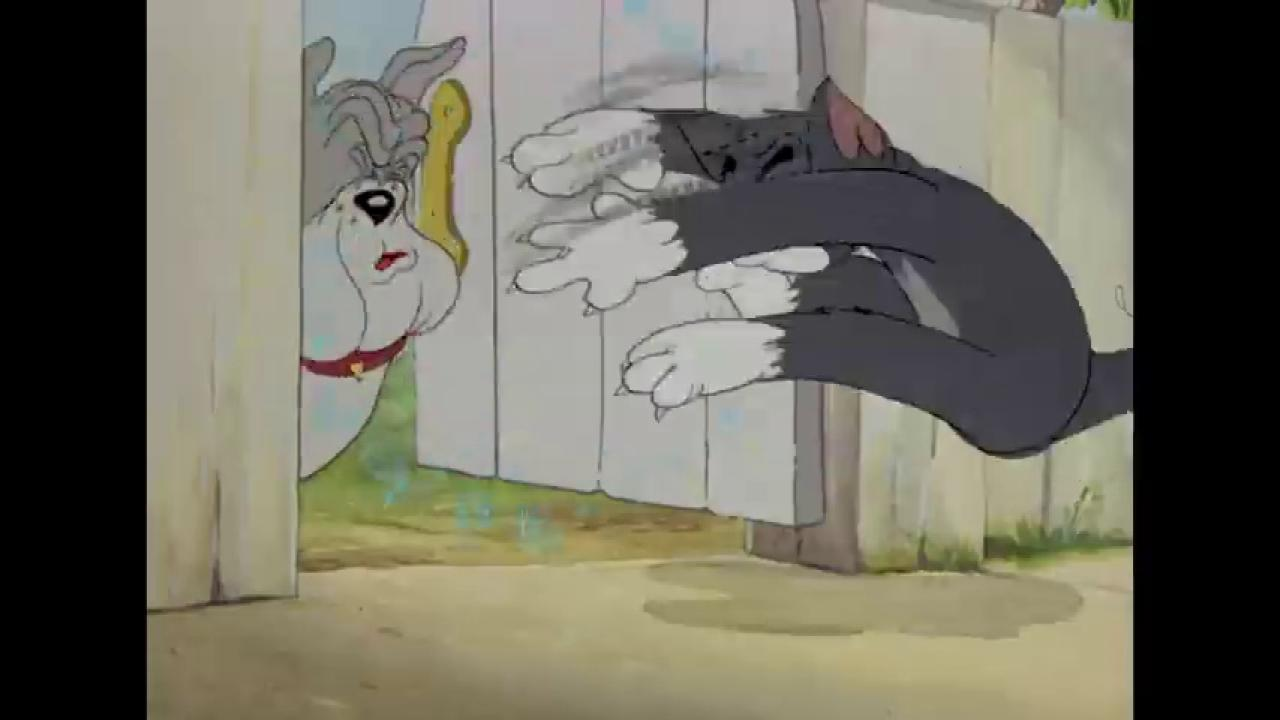Tom: (503, 76, 1134, 460)
